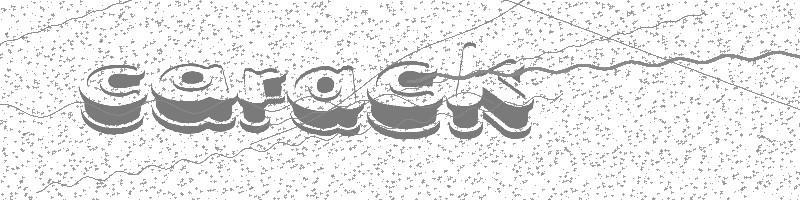a: (151, 63, 237, 135), (288, 66, 364, 136)
c: (366, 61, 444, 140), (79, 62, 148, 136)
k: (446, 41, 535, 141)
r: (239, 66, 287, 133)
